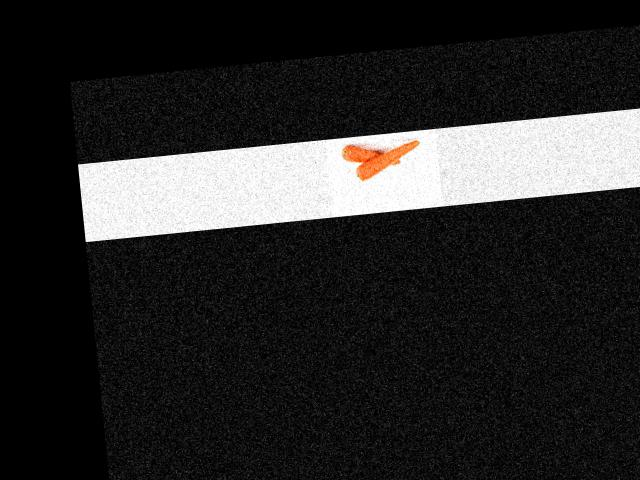carrot: (337, 138, 405, 173)
